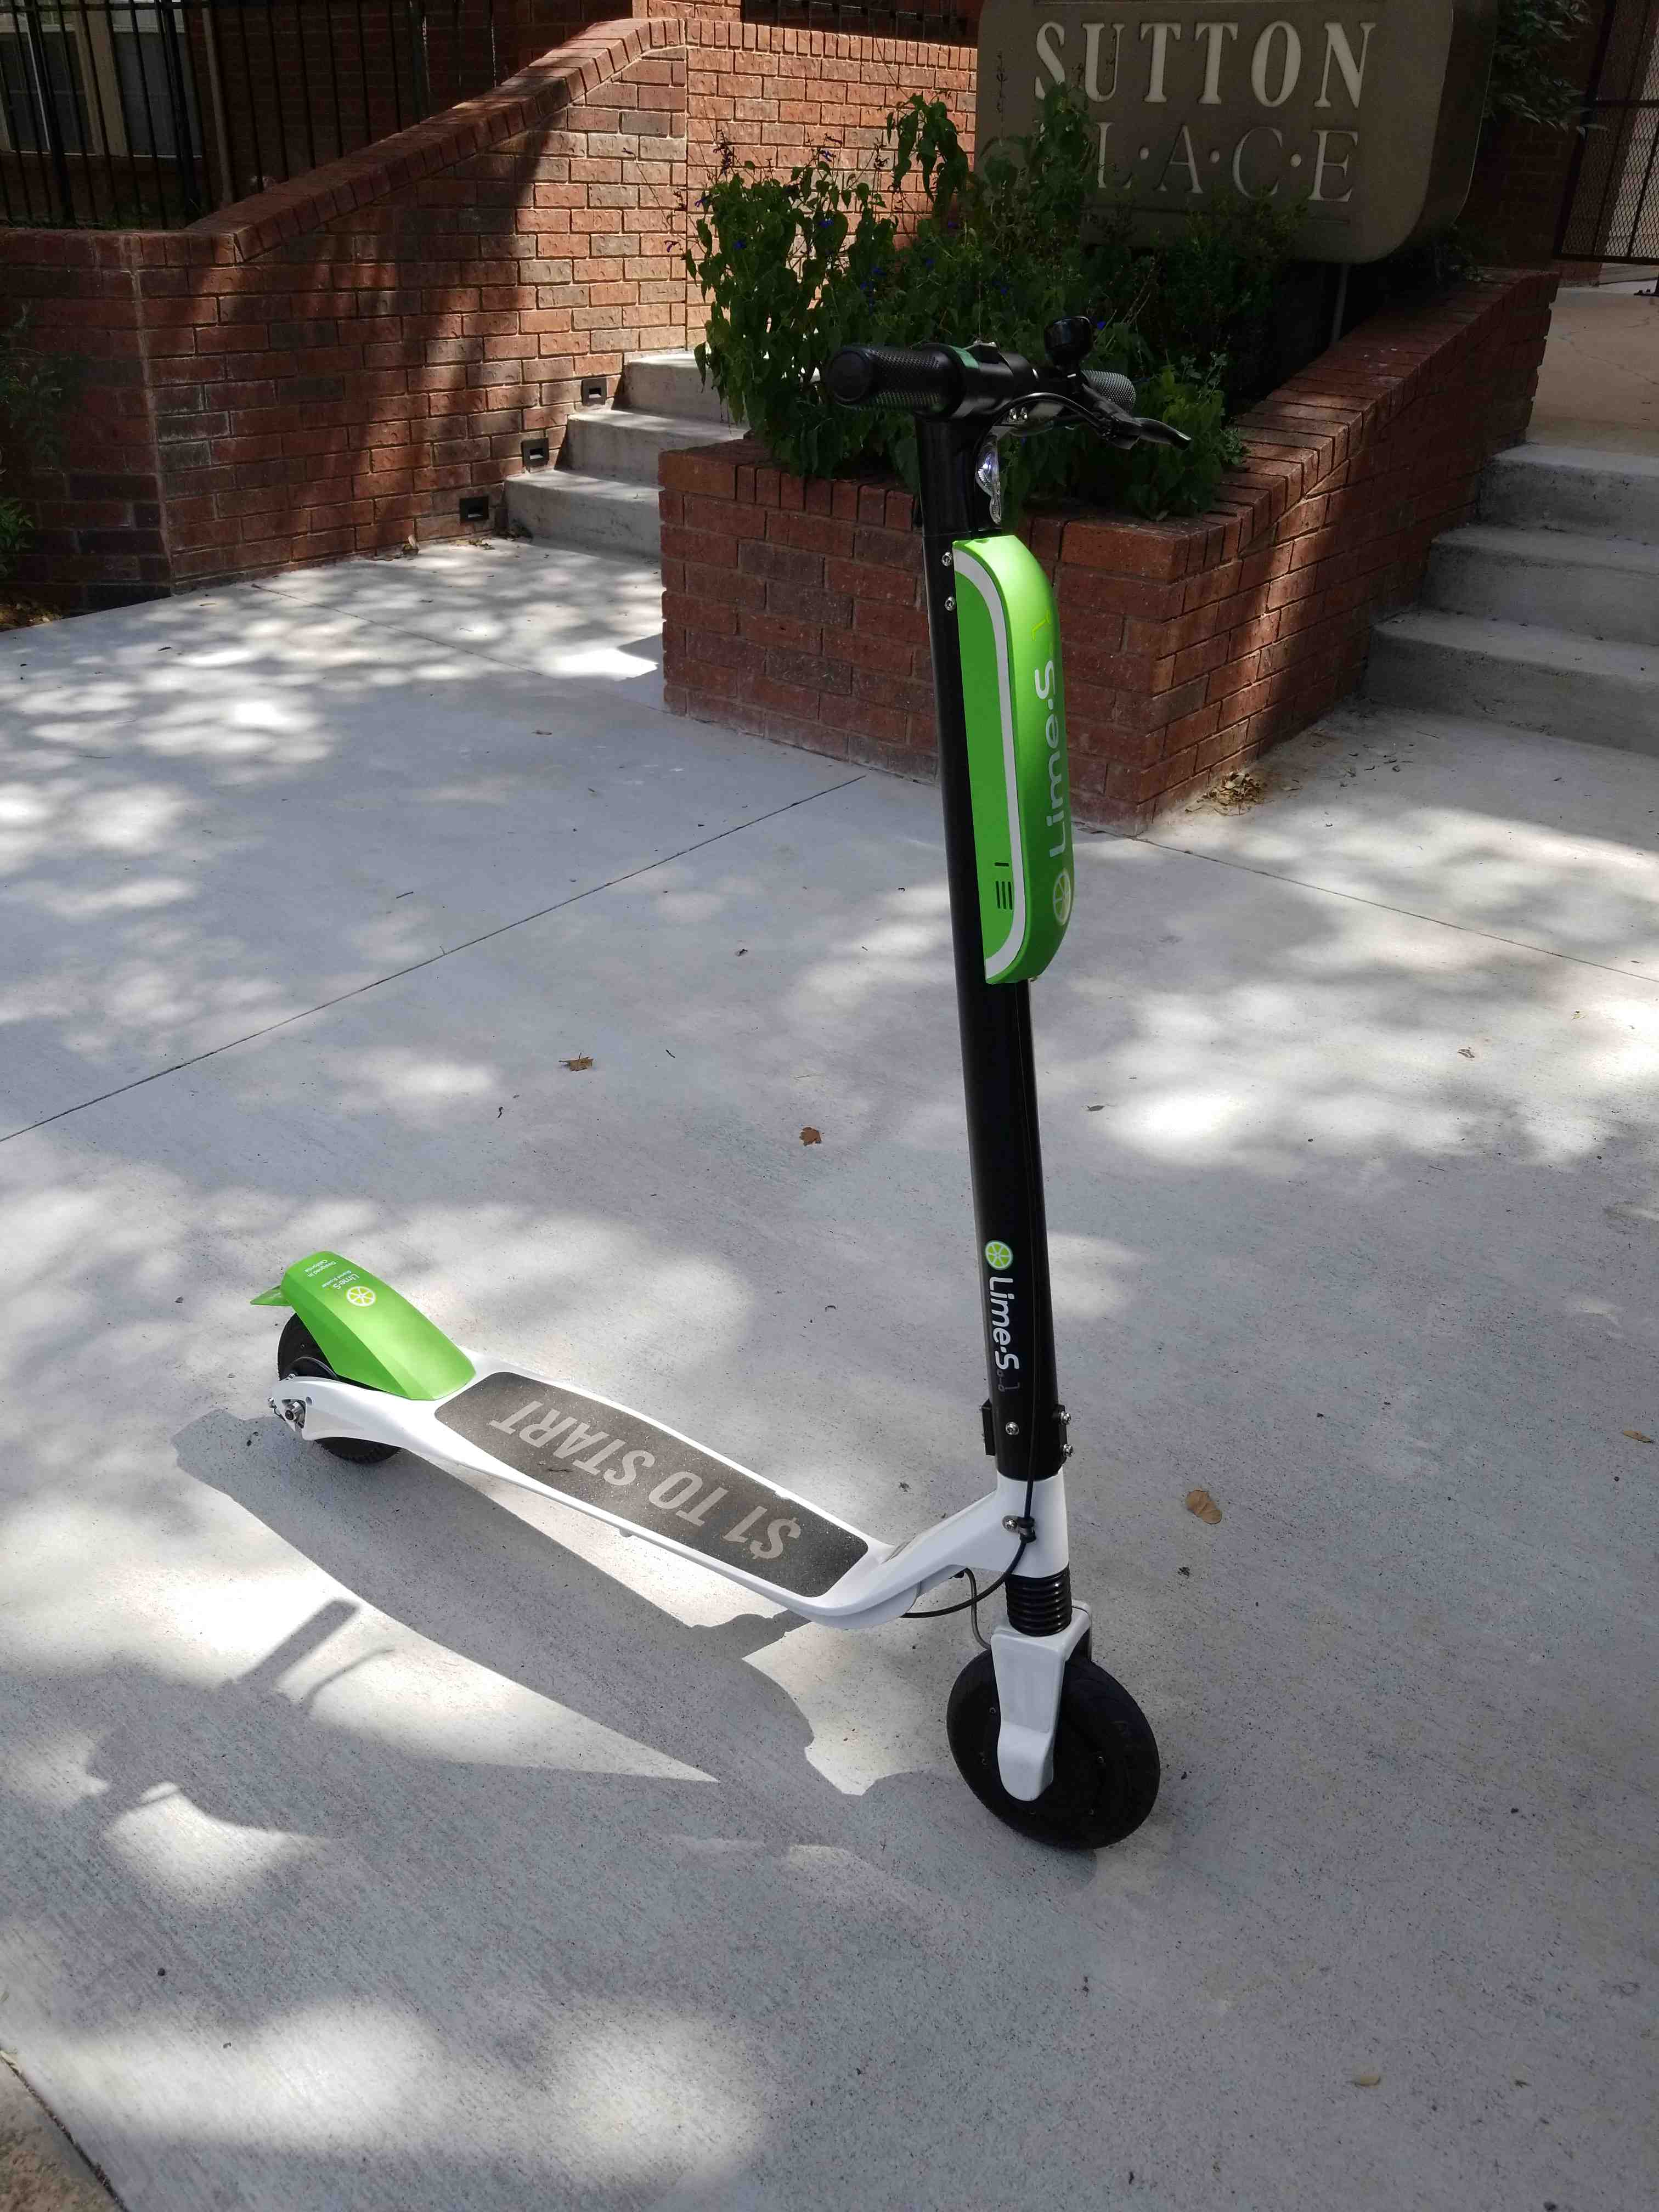scooter: (228, 303, 1286, 1932)
